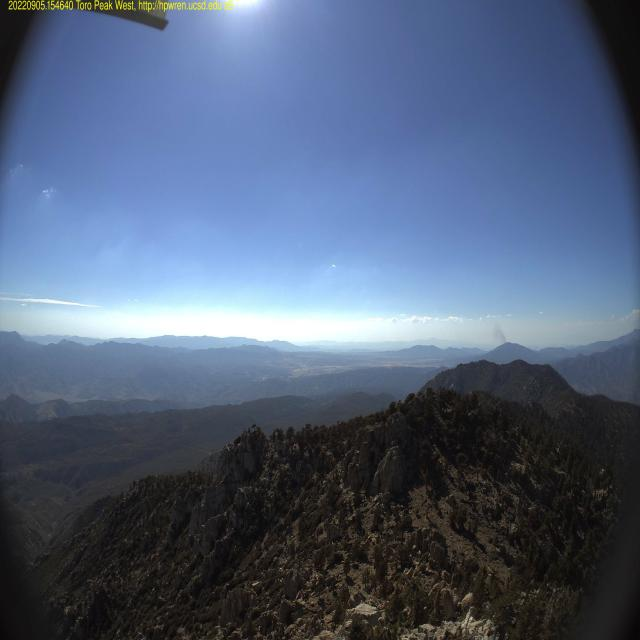smoke: (502, 323, 511, 348), (493, 319, 500, 340)
